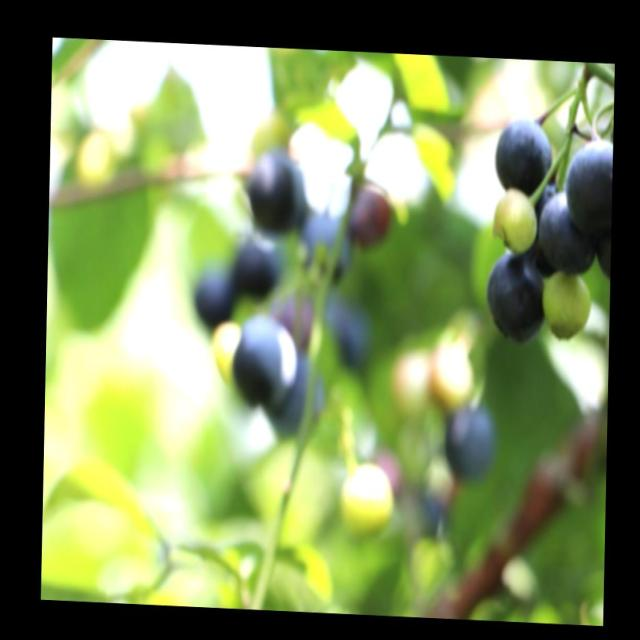blueberry: (484, 254, 552, 343), (235, 312, 293, 408), (564, 135, 612, 241), (536, 189, 594, 270), (493, 115, 553, 190), (250, 150, 303, 227), (444, 400, 492, 473)
blueberry-unripe: (540, 265, 592, 338), (492, 186, 538, 254)
